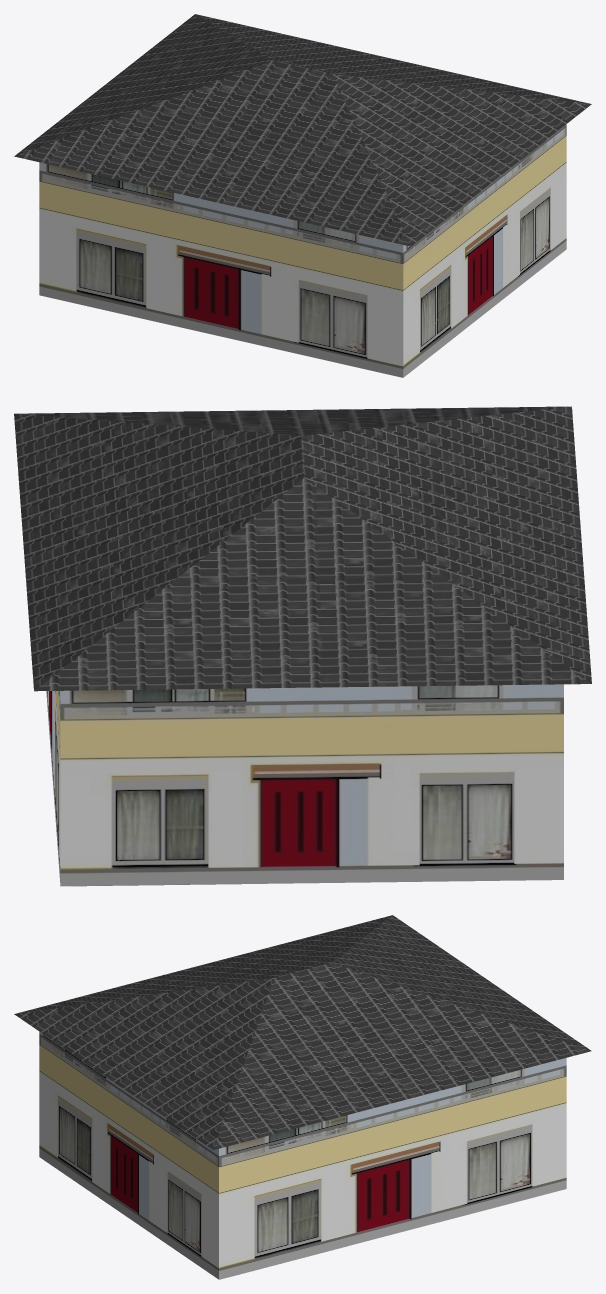
The picture shows the model from 3 angles, top to bottom: view 1: azimuth 30°, elevation 25°; view 2: azimuth 150°, elevation 25°; view 3: azimuth 270°, elevation 25°; orthographic projection. The views are drawn at different scales.
Parts seen in each view (by area): view 1: CityEngineMaterial_16_m, CityEngineMaterial_15_m; view 2: CityEngineMaterial_16_m, CityEngineMaterial_15_m; view 3: CityEngineMaterial_16_m, CityEngineMaterial_15_m.
Boxes of the visible parts, box(x1,y1,x2,y2) form: CityEngineMaterial_16_m: box(14, 14, 591, 246); CityEngineMaterial_15_m: box(39, 124, 566, 377); CityEngineMaterial_16_m: box(14, 406, 591, 691); CityEngineMaterial_15_m: box(46, 684, 563, 886); CityEngineMaterial_16_m: box(14, 915, 591, 1149); CityEngineMaterial_15_m: box(39, 1031, 566, 1279).
Bounding box in the file's own units: 28.3 × 11.39 × 29.4.
